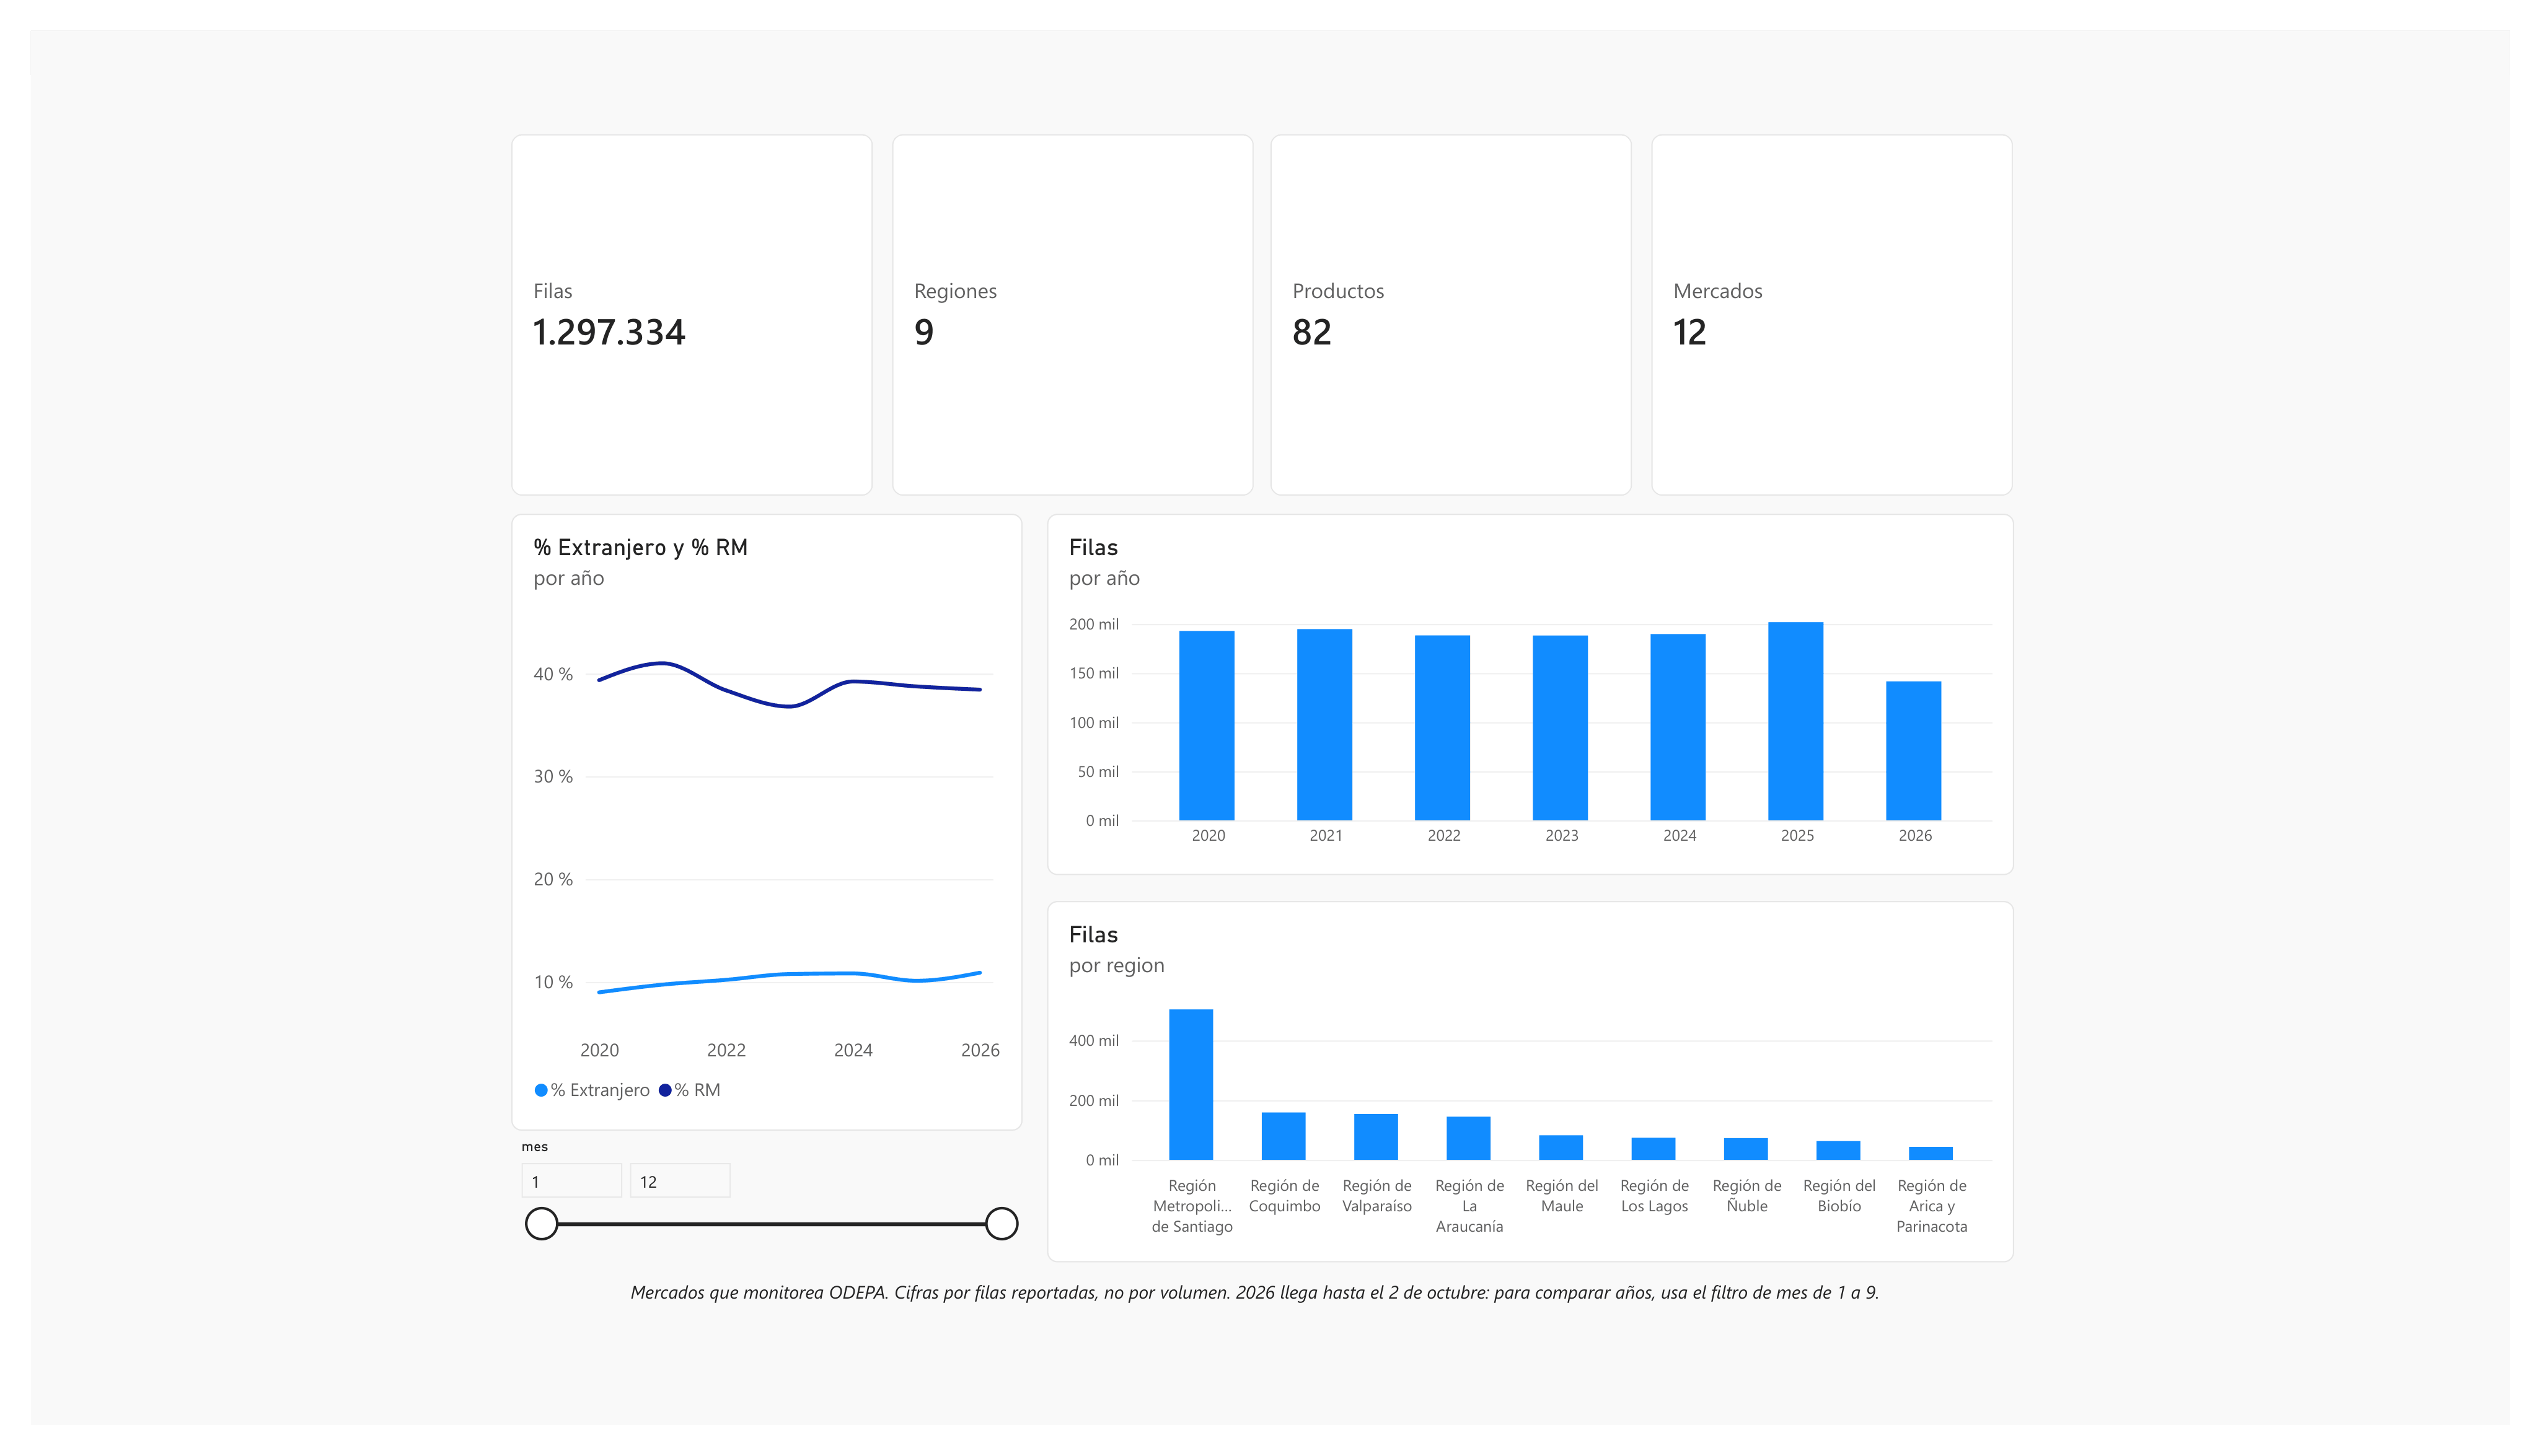

This screenshot's page, from the dashboard's own definition file:
{"tool":"powerbi","page":{"name":"Página 1 - Panorama","canvas":[1920,1080],"ordinal":0},"visuals":[{"type":"cardVisual","fields":{"Data":["precios.Filas (texto)"]},"box":[371.7,80,280,280],"z":0},{"type":"cardVisual","fields":{"Data":["precios.Regiones"]},"box":[666.7,80,280,280],"z":1000},{"type":"cardVisual","fields":{"Data":["precios.Productos"]},"box":[960,80,280,280],"z":2000},{"type":"cardVisual","fields":{"Data":["precios.Mercados"]},"box":[1255,80,280,280],"z":3000},{"type":"columnChart","fields":{"Category":["precios.anio"],"Y":["precios.Filas"]},"box":[787.1,374.3,748.6,280],"z":4000},{"type":"columnChart","fields":{"Category":["precios.region"],"Y":["precios.Filas"]},"box":[787.1,674.3,748.6,280],"z":5000},{"type":"lineChart","fields":{"Category":["precios.anio"],"Y":["precios.% Extranjero","precios.% RM"]},"box":[372,374,396,478],"z":6000},{"type":"slicer","fields":{"Values":["precios.mes"]},"box":[372,858,396,96],"z":7000},{"type":"textbox","box":[460,967,976,46],"z":8000}]}

Visuals, with their boxes on the page's 1920x1080 design canvas (x1, y1, x2, y2). These are canvas units, not pixel positions in the 2541x1456 screenshot, which may show the page scaled, cropped or inside an application window:
cardVisual - precios.Filas (texto): x1=372, y1=80, x2=652, y2=360
cardVisual - precios.Regiones: x1=667, y1=80, x2=947, y2=360
cardVisual - precios.Productos: x1=960, y1=80, x2=1240, y2=360
cardVisual - precios.Mercados: x1=1255, y1=80, x2=1535, y2=360
columnChart - precios.anio x precios.Filas: x1=787, y1=374, x2=1536, y2=654
columnChart - precios.region x precios.Filas: x1=787, y1=674, x2=1536, y2=954
lineChart - precios.anio x precios.% Extranjero: x1=372, y1=374, x2=768, y2=852
slicer - precios.mes: x1=372, y1=858, x2=768, y2=954
textbox: x1=460, y1=967, x2=1436, y2=1013
